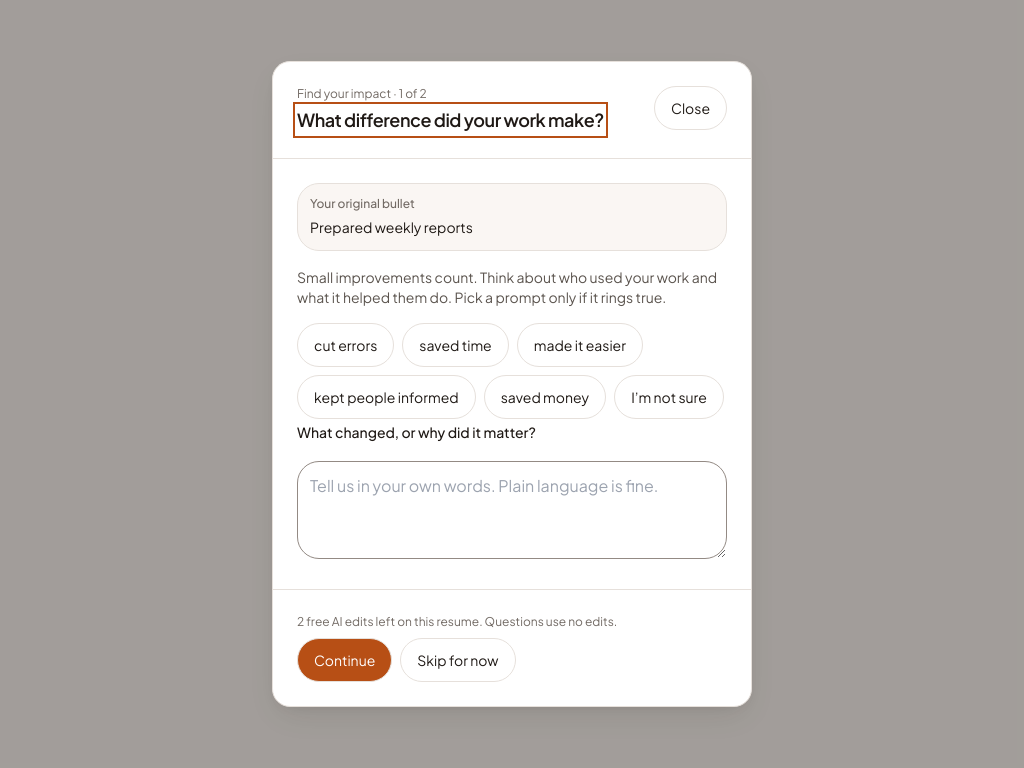
it: ImpactGuide › keeps answers when going back and never generates just from tapping a prompt
Click the button "saved time" at (456, 345), box [402,323,509,367]
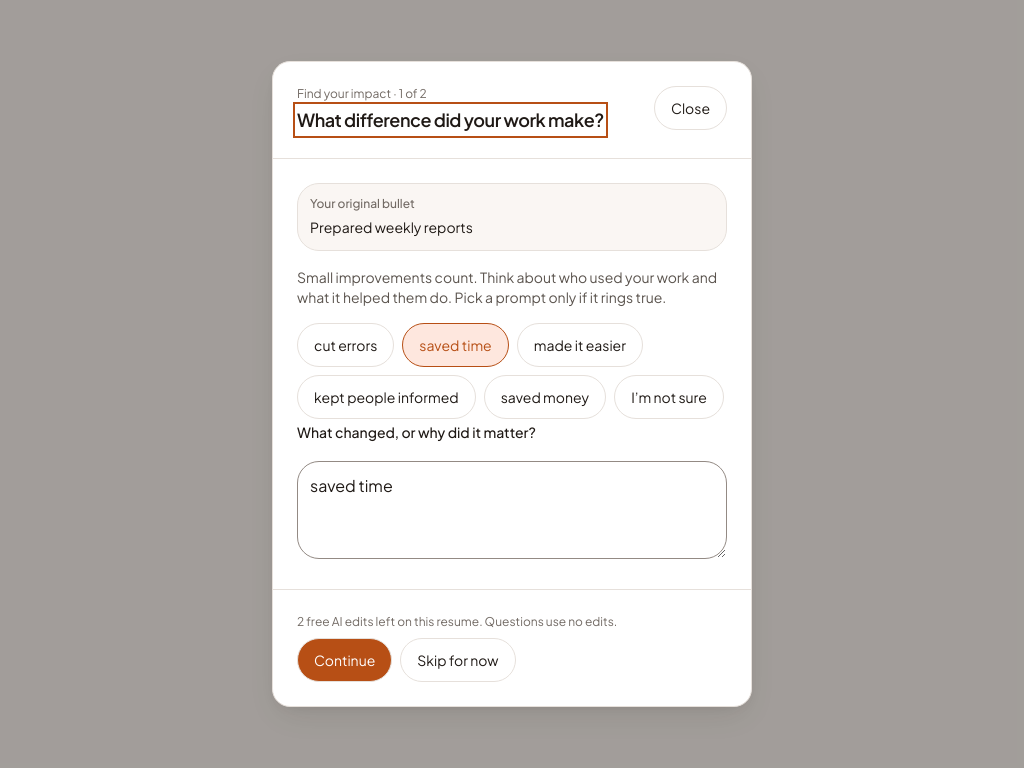
Replace the text in the text box labelled "What changed, or why did it matter?" with "Helped the team prepare meetings" at (512, 510), box [297,461,727,559]
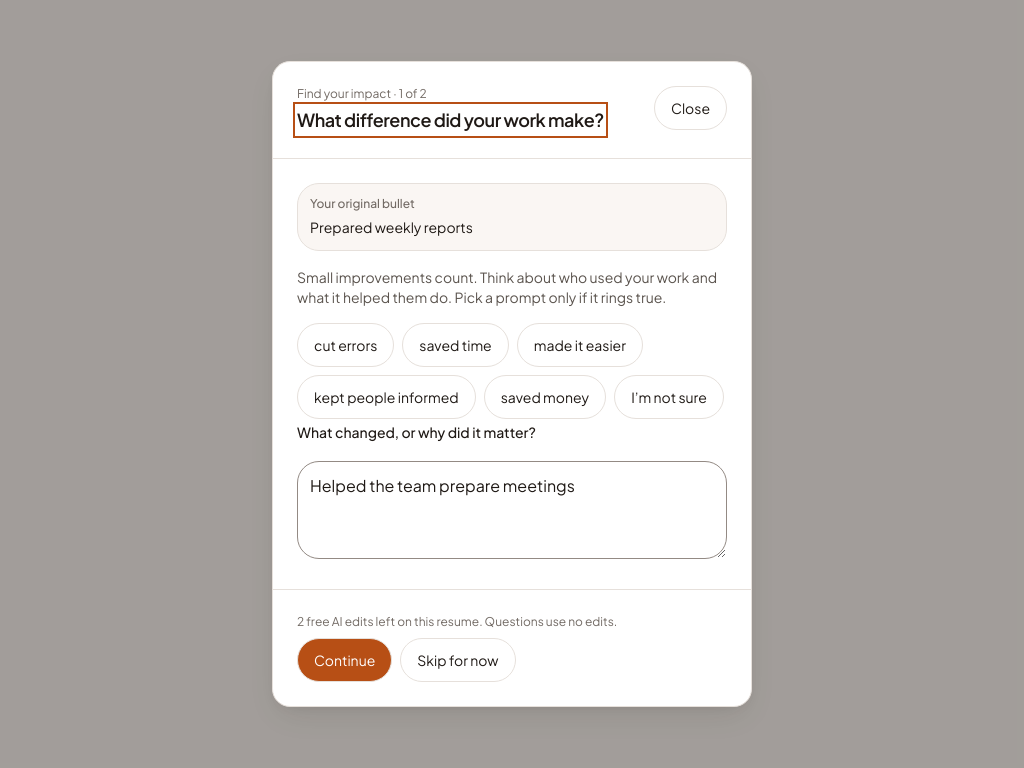
Click the button "Continue" at (345, 660), box [297,638,392,682]
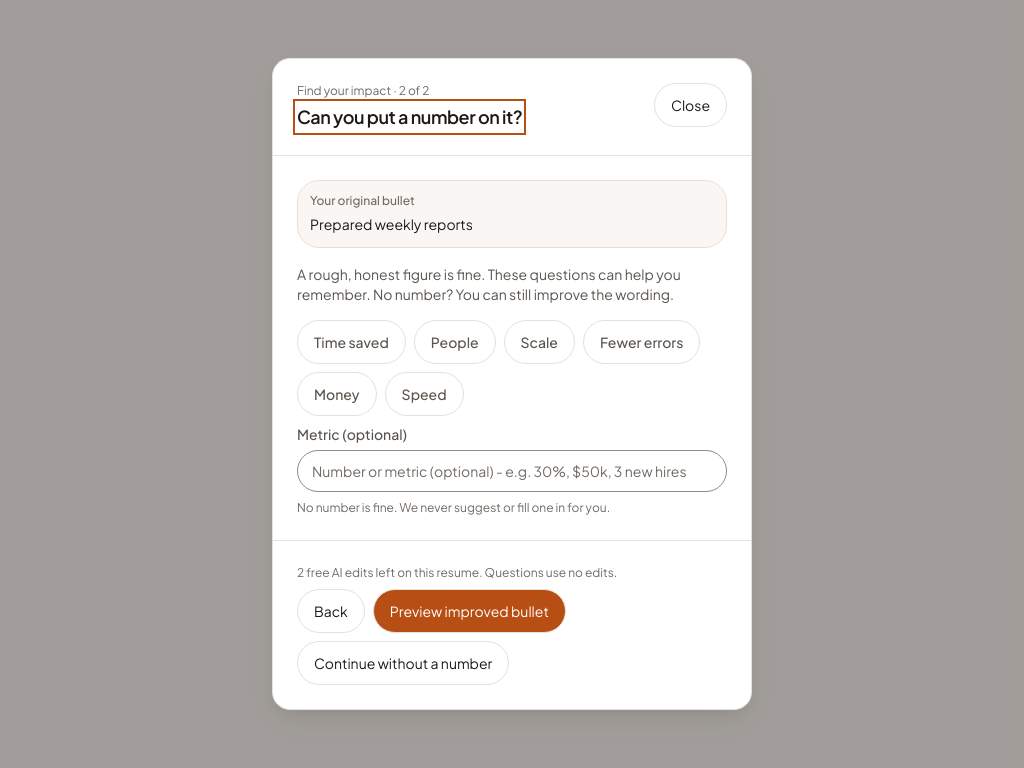
Click the button "Back" at (331, 611), box [297,589,365,633]
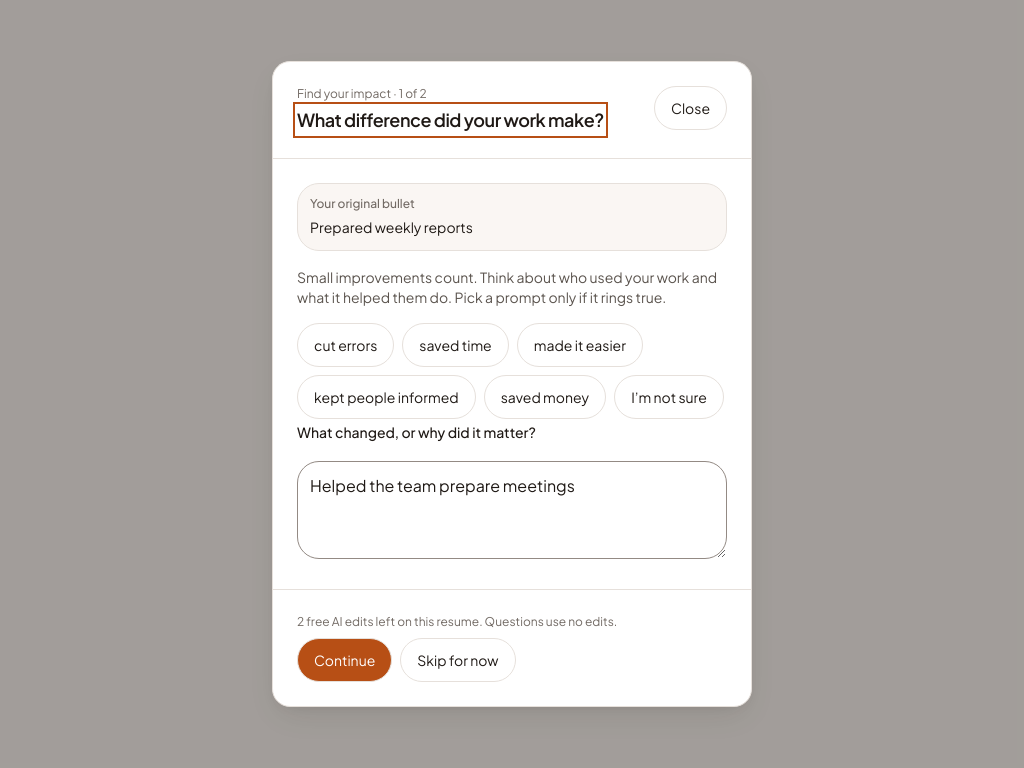
Expected: the text box labelled "What changed, or why did it matter?" holds "Helped the team prepare meetings", [297,461,727,559]
